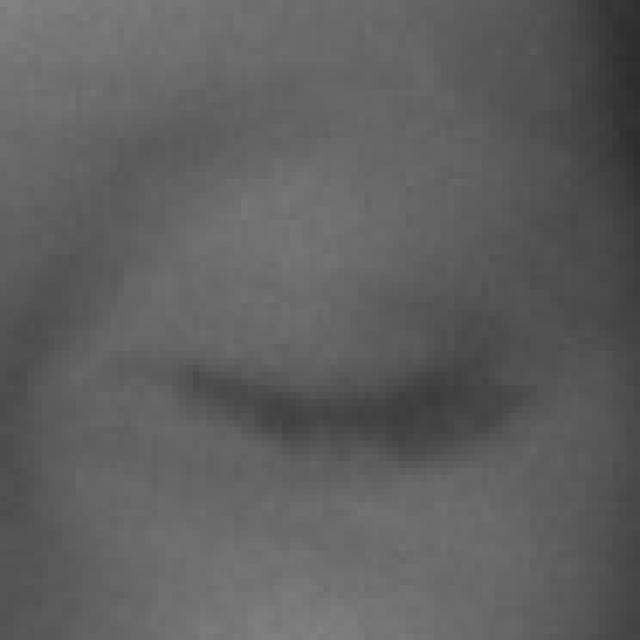Eyeclosed: (170, 228, 532, 573)
